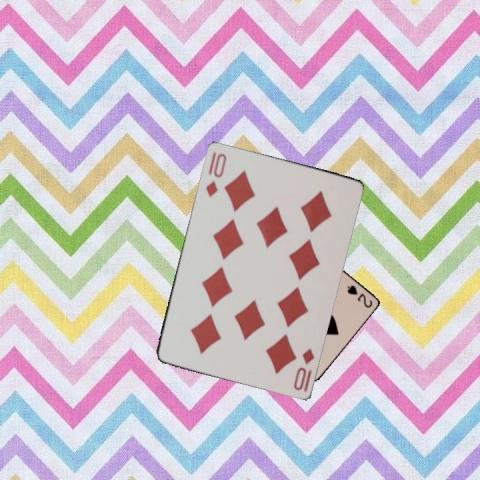10d: (202, 149, 228, 198), (290, 345, 315, 393)
2s: (344, 282, 374, 309)
